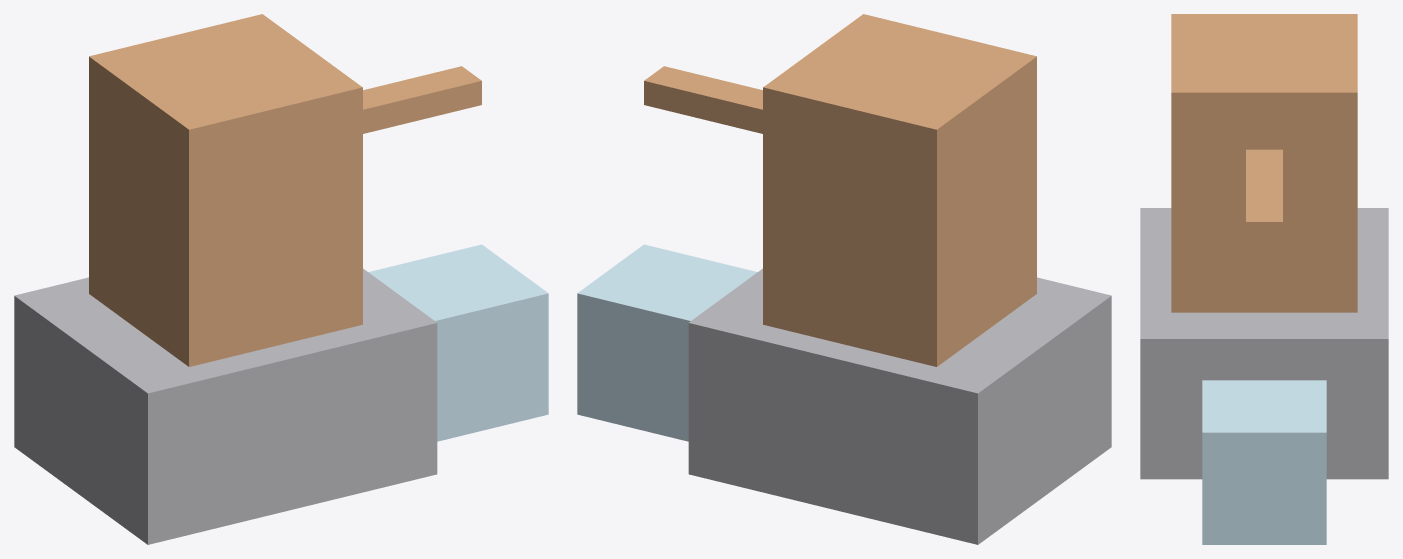
Rendered from Prop_Water_AMF_SolarStill_V4.glb.
3 views of the same model, side by side, from view 1: azimuth 30°, elevation 25°; view 2: azimuth 150°, elevation 25°; view 3: azimuth 270°, elevation 25° (orthographic). The views are drawn at different scales.
Visible parts, largest first — view 1: Prop_Water_AMF_SolarStill_V4; view 2: Prop_Water_AMF_SolarStill_V4; view 3: Prop_Water_AMF_SolarStill_V4.
Part boxes in pixels (x1=…): Prop_Water_AMF_SolarStill_V4: x1=14, y1=14, x2=548, y2=544; Prop_Water_AMF_SolarStill_V4: x1=577, y1=14, x2=1111, y2=544; Prop_Water_AMF_SolarStill_V4: x1=1140, y1=14, x2=1388, y2=544.
Bounding box in the file's own units: 1.5 × 1.28 × 0.8.
